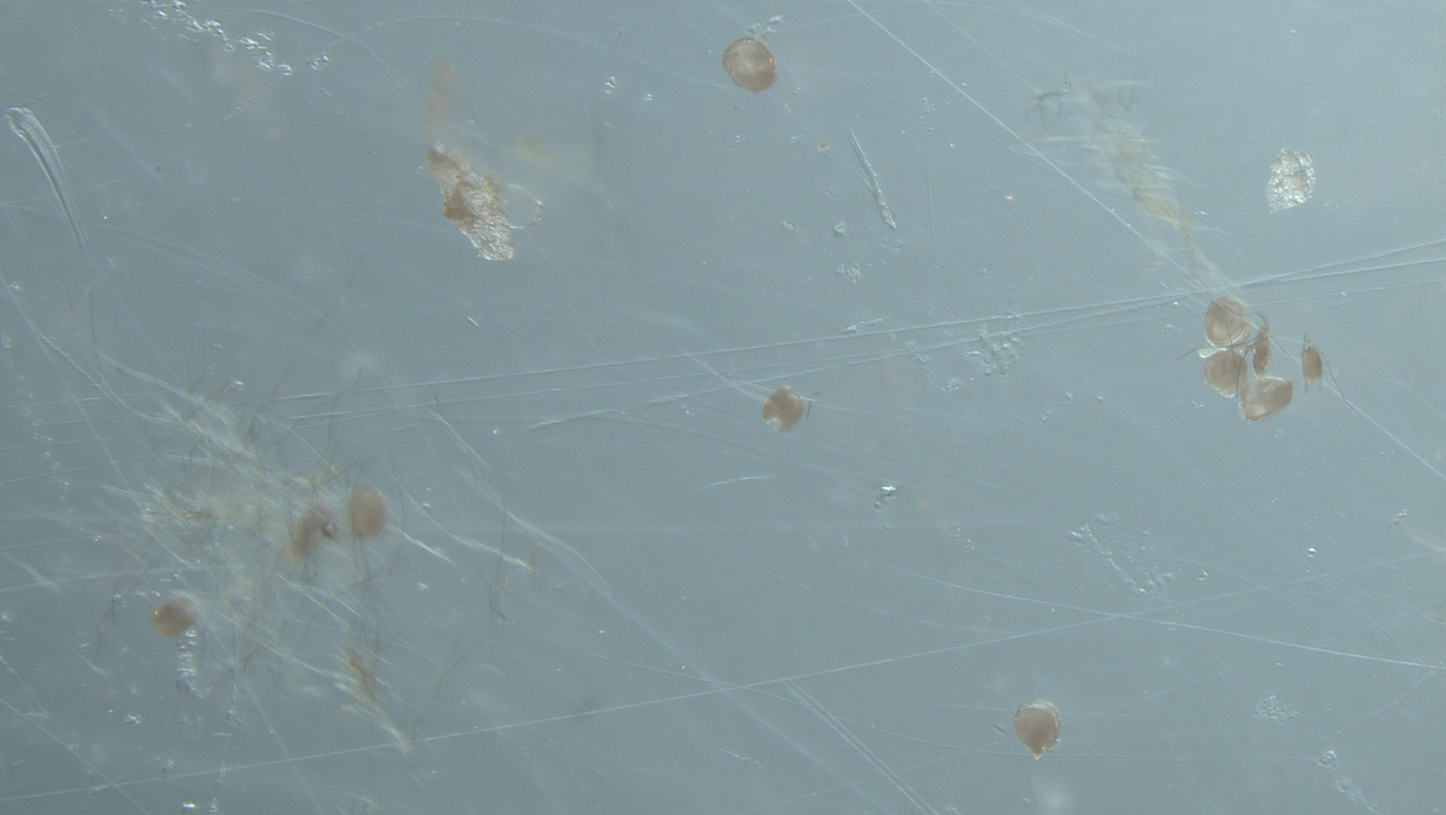dead: (498, 184, 543, 230)
live: (723, 38, 777, 93), (1014, 700, 1060, 758), (1205, 295, 1253, 347), (1240, 376, 1293, 420), (762, 386, 806, 432), (1203, 349, 1246, 396), (349, 487, 387, 538), (153, 594, 198, 636)
